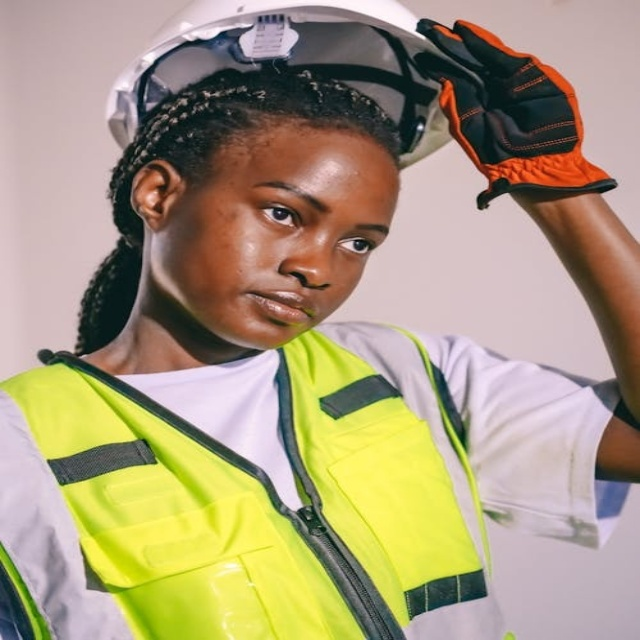Guantes: (407, 18, 618, 206)
Sin_gafas: (223, 171, 389, 263)
Sin_mascara: (219, 280, 324, 349)
